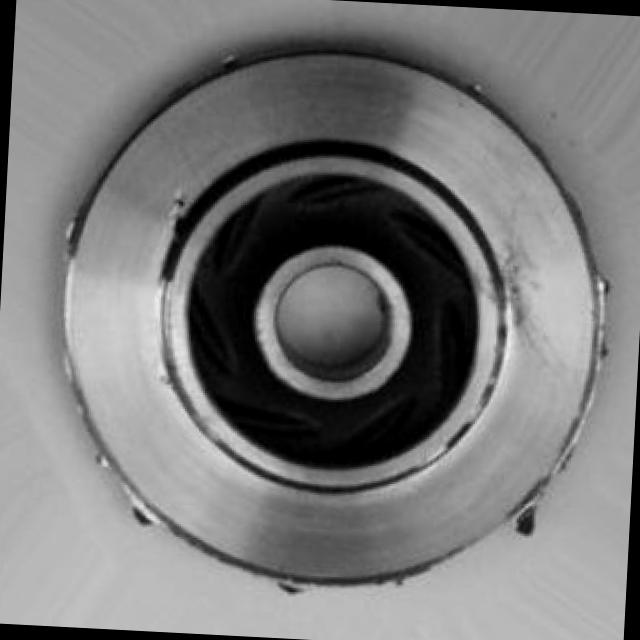Defect: (492, 482, 569, 552)
